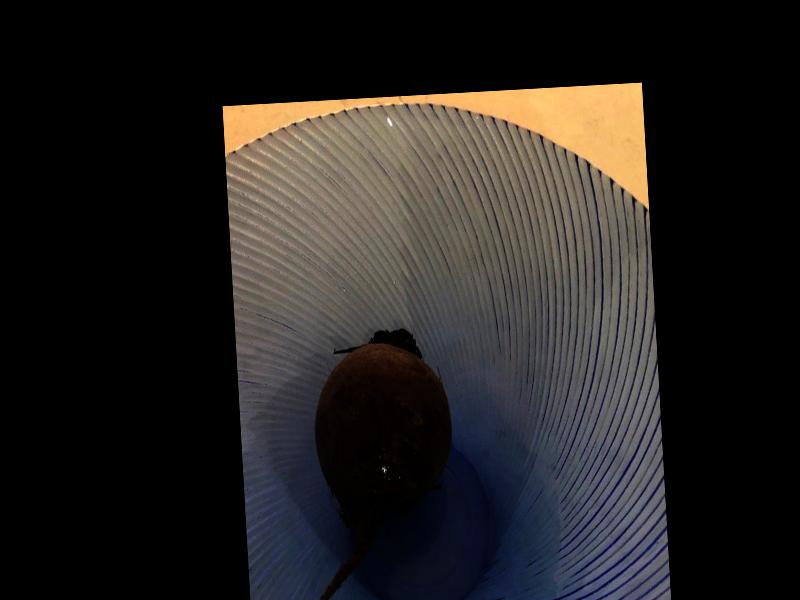Beet: (235, 324, 463, 600)
